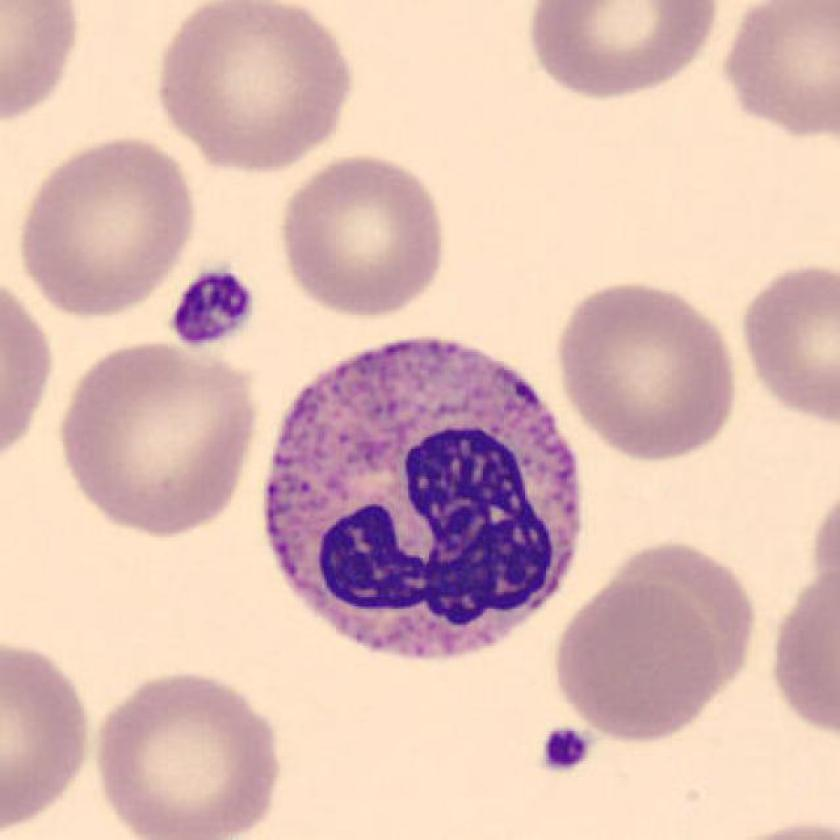neutrophil: (266, 337, 581, 663)
